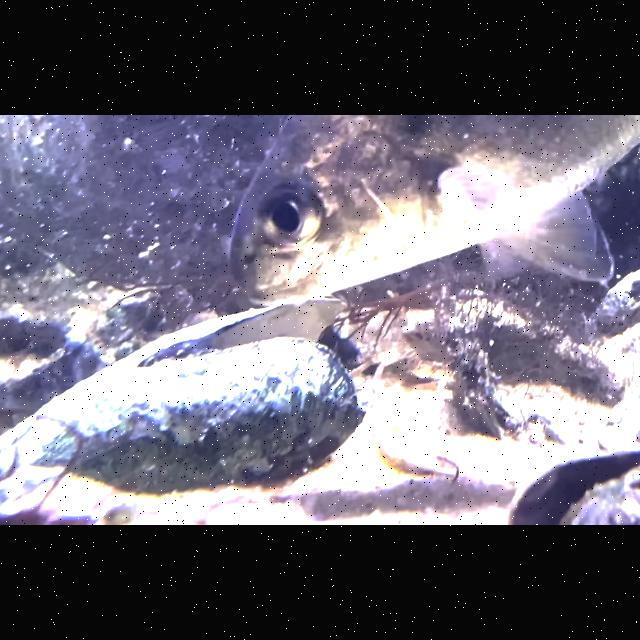Oyster-Closed: (593, 267, 640, 339)
Oyster-Open: (27, 296, 367, 498), (508, 450, 640, 526)
